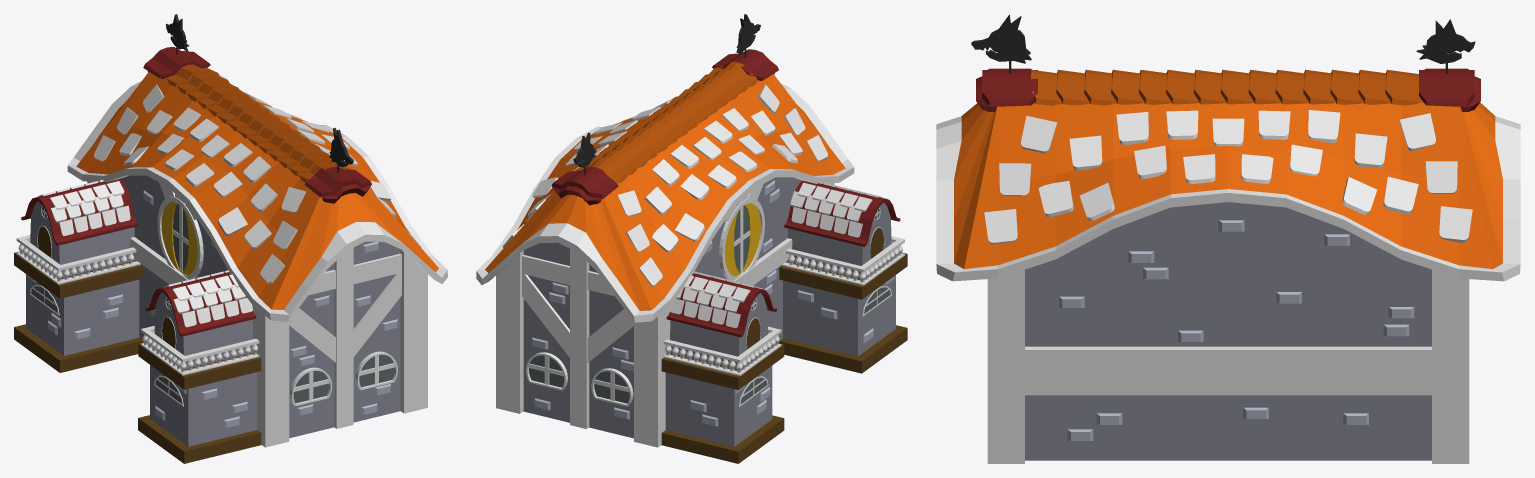
The model's file is CasaKolveinv3.fbx.
3 renders of one model, left to right at view 1: azimuth 30°, elevation 25°; view 2: azimuth 150°, elevation 25°; view 3: azimuth 270°, elevation 25°, orthographic. The views are drawn at different scales.
Visible parts, largest first — view 1: Cube, Cube.023, Cube.001, Cube.024, Cube.113, Cube.002, Cube.011, Cube.009, Cube.013, Cylinder.007, Cube.111, Cube.019 (+18 smaller); view 2: Cube, Cube.001, Cube.023, Cube.113, Cube.002, Cube.024, Cube.010, Cube.012, Cube.014, Cube.110, Cylinder.007, Cube.016 (+19 smaller); view 3: Cube, Cube.015, Cube.113, Cube.009, Cube.010, Cube.110, Cube.111, Plane.001, Plane, Cube.208, Cube.207, Cube.202 (+18 smaller).
Boxes of the visible parts, x1=… form: Cube: x1=67, y1=72, x2=447, y2=438; Cube.023: x1=14, y1=276, x2=143, y2=372; Cube.001: x1=138, y1=365, x2=261, y2=463; Cube.024: x1=14, y1=179, x2=143, y2=298; Cube.113: x1=165, y1=64, x2=348, y2=182; Cube.002: x1=138, y1=272, x2=261, y2=389; Cube.011: x1=252, y1=305, x2=289, y2=447; Cube.009: x1=400, y1=249, x2=427, y2=413; Cube.013: x1=334, y1=248, x2=353, y2=428; Cylinder.007: x1=157, y1=196, x2=203, y2=279; Cube.111: x1=304, y1=165, x2=371, y2=203; Cube.019: x1=353, y1=271, x2=401, y2=356; Cube: x1=476, y1=74, x2=854, y2=438; Cube.001: x1=779, y1=275, x2=907, y2=373; Cube.023: x1=661, y1=366, x2=784, y2=463; Cube.113: x1=577, y1=61, x2=757, y2=182; Cube.002: x1=779, y1=180, x2=907, y2=299; Cube.024: x1=661, y1=273, x2=784, y2=389; Cube.010: x1=496, y1=250, x2=523, y2=413; Cube.012: x1=634, y1=306, x2=670, y2=447; Cube.014: x1=570, y1=249, x2=589, y2=428; Cube.110: x1=551, y1=166, x2=618, y2=205; Cylinder.007: x1=719, y1=198, x2=764, y2=280; Cube.016: x1=522, y1=271, x2=569, y2=357; Cube: x1=936, y1=102, x2=1520, y2=460; Cube.015: x1=1025, y1=346, x2=1431, y2=395; Cube.113: x1=1031, y1=69, x2=1423, y2=105; Cube.009: x1=987, y1=269, x2=1024, y2=463; Cube.010: x1=1432, y1=269, x2=1469, y2=463; Cube.110: x1=1419, y1=68, x2=1480, y2=111; Cube.111: x1=976, y1=68, x2=1037, y2=111; Plane.001: x1=971, y1=14, x2=1031, y2=63; Plane: x1=1416, y1=19, x2=1475, y2=63; Cube.208: x1=1439, y1=206, x2=1472, y2=242; Cube.207: x1=1399, y1=113, x2=1435, y2=151; Cube.202: x1=1021, y1=116, x2=1057, y2=153.
Size of the model in its own units: 530 by 596 by 798.
